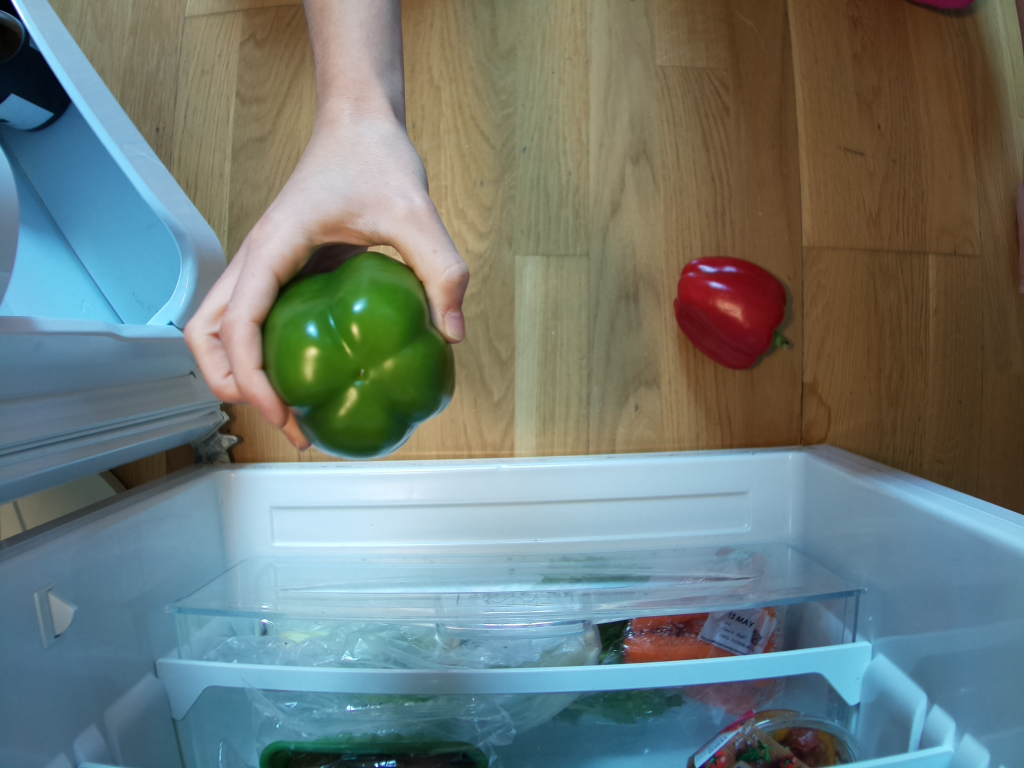pepper: (264, 253, 458, 465), (673, 253, 797, 375)
